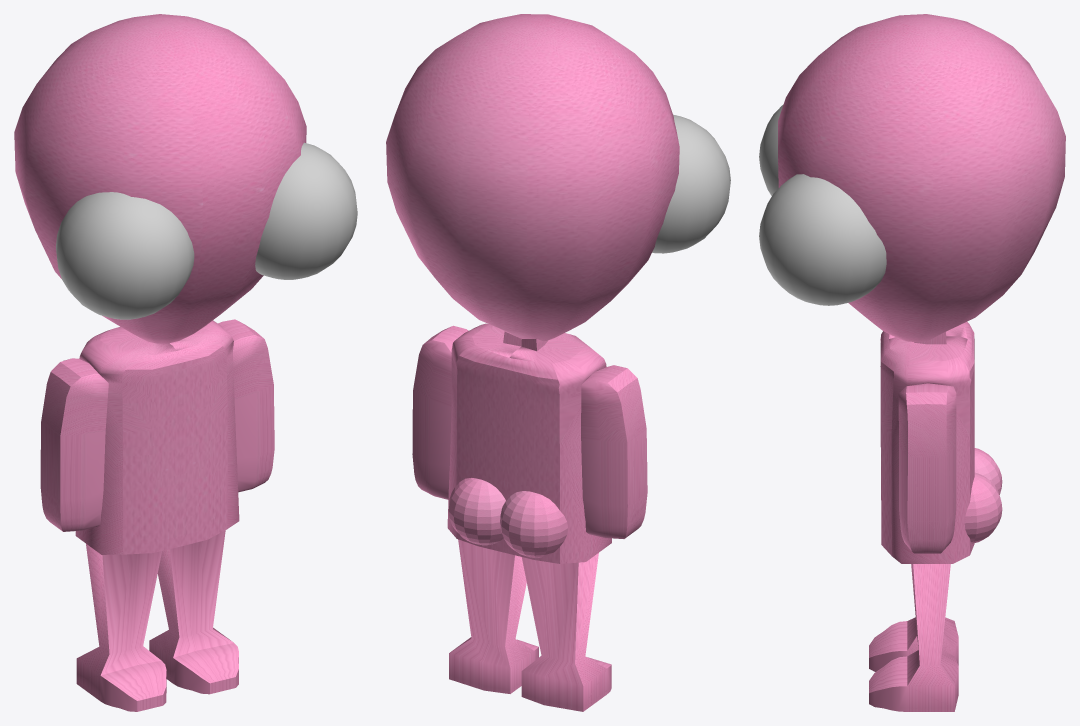
Rendered from alien2.fbx.
3 views of the same model, side by side, from view 1: azimuth 30°, elevation 25°; view 2: azimuth 150°, elevation 25°; view 3: azimuth 270°, elevation 25° (orthographic).
Parts seen in each view (by area): view 1: Cube, Sphere.001; view 2: Cube, Sphere.001; view 3: Cube, Sphere.001.
Part boxes in pixels (x1,y1,x2,y2): Cube: [14, 14, 306, 711]; Sphere.001: [56, 142, 357, 319]; Cube: [386, 14, 679, 711]; Sphere.001: [652, 114, 730, 253]; Cube: [778, 14, 1065, 711]; Sphere.001: [759, 104, 886, 305].
Bounding box in the file's own units: 153 × 335 × 143.
